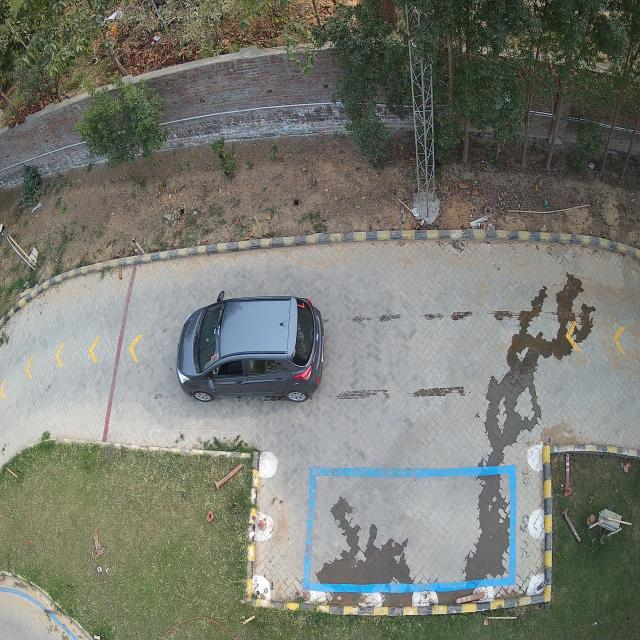car: (175, 292, 325, 402)
